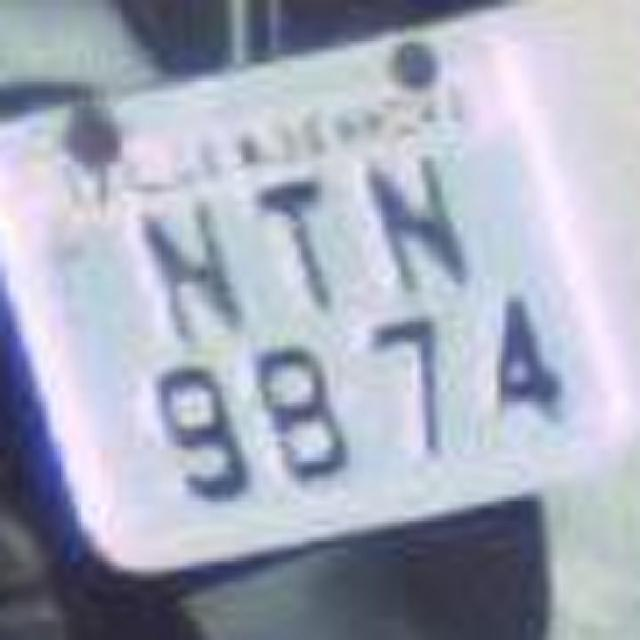4: (464, 260, 588, 465)
7: (352, 304, 460, 471)
8: (240, 325, 365, 500)
9: (132, 340, 268, 515)
N: (129, 180, 256, 355), (348, 144, 480, 308)
T: (245, 180, 360, 312)
